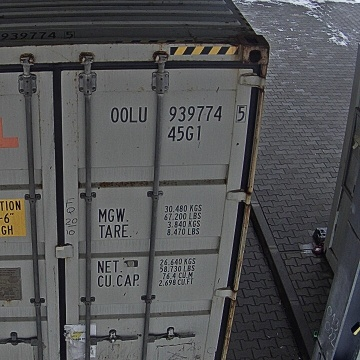serial_id: (111, 106, 246, 122)
